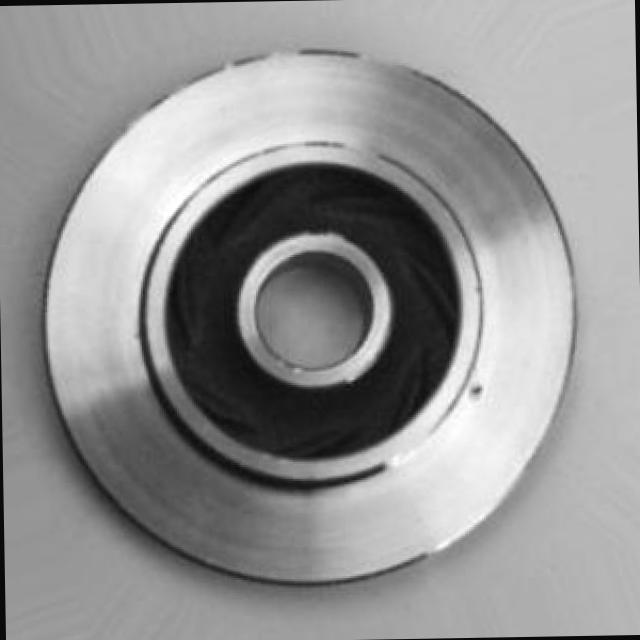Defect: (467, 377, 489, 406)
